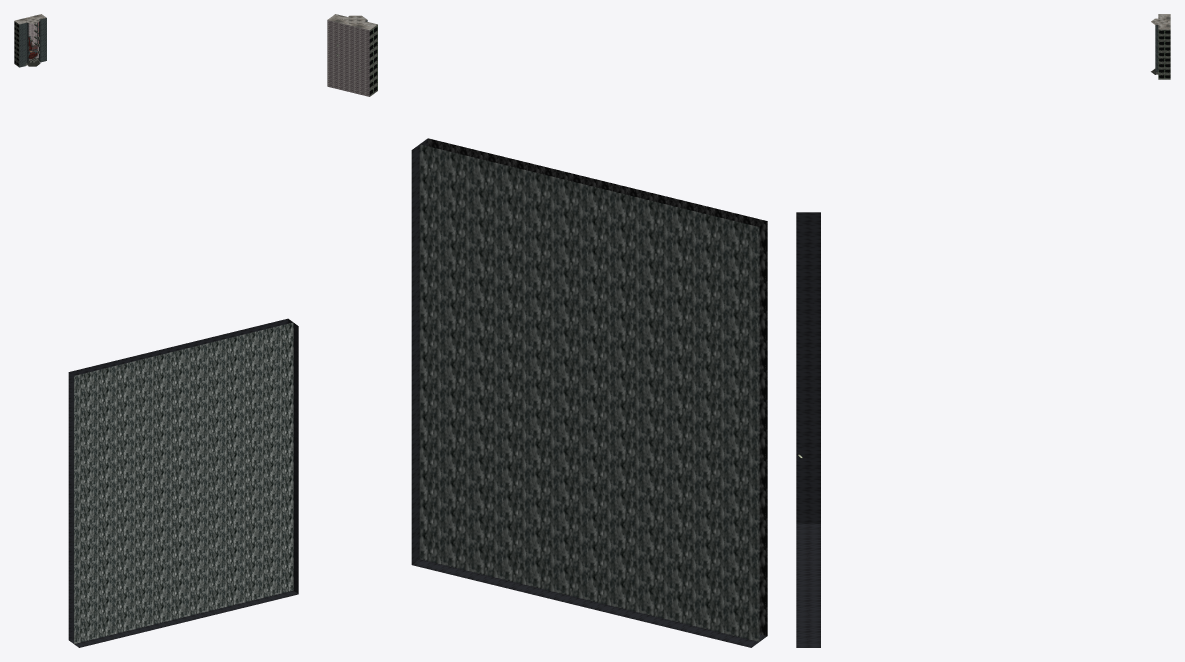
File: EOL_Monuments.obj
3 renders of one model, left to right at view 1: azimuth 30°, elevation 25°; view 2: azimuth 150°, elevation 25°; view 3: azimuth 270°, elevation 25°, orthographic. The views are drawn at different scales.
Visible parts, largest first — view 1: GenFluid_cloud1, eol_Black, eol_EMarble1; view 2: GenFluid_cloud1, eol_Black, Skybox_Effects_NCld, eol_inlaid7; view 3: eol_Black, eol_earch.
Part boxes in pixels (<box>): GenFluid_cloud1: <box>74,322,293,643</box>; eol_Black: <box>68,318,298,647</box>; eol_EMarble1: <box>19,18,46,67</box>; GenFluid_cloud1: <box>419,144,759,641</box>; eol_Black: <box>411,138,767,647</box>; Skybox_Effects_NCld: <box>428,138,767,635</box>; eol_inlaid7: <box>327,20,369,96</box>; eol_Black: <box>796,212,820,647</box>; eol_earch: <box>1158,29,1170,79</box>.
Size of the model in its own units: 117 by 247 by 149.
